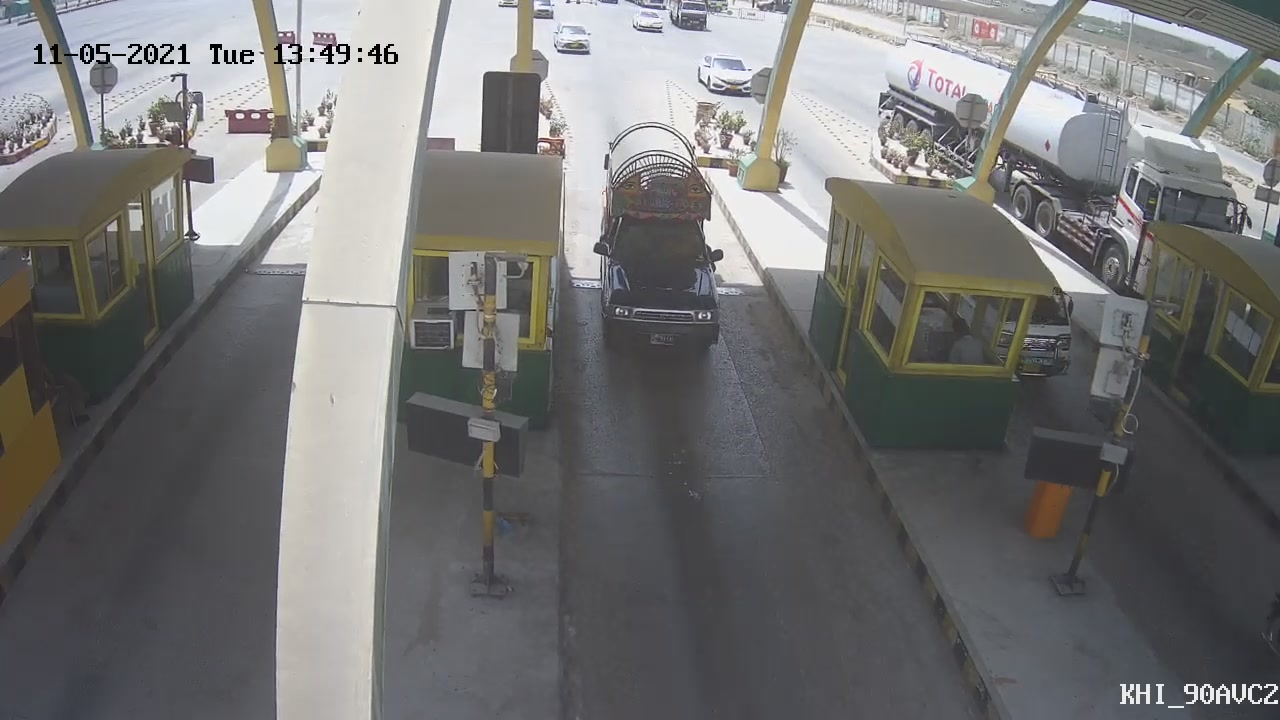F1: (595, 119, 743, 377)
